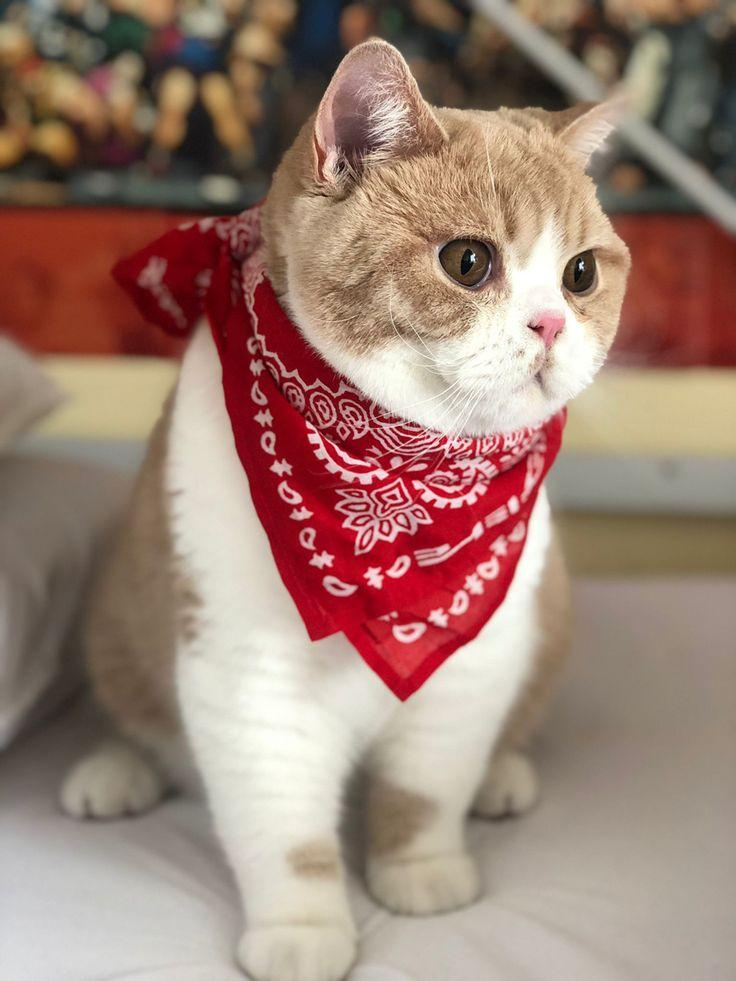kedo: (62, 38, 634, 981)
